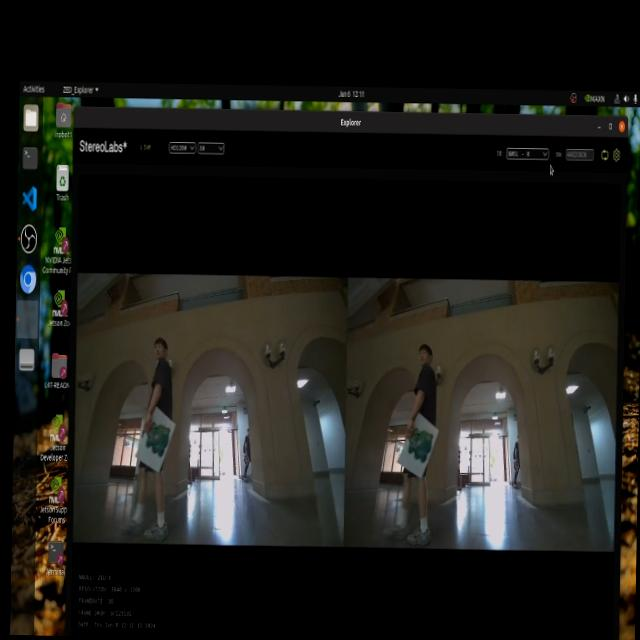green: (402, 424, 431, 462), (146, 421, 170, 452)
